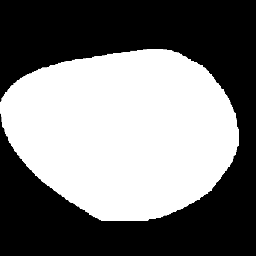mass: (11, 61, 227, 213)
